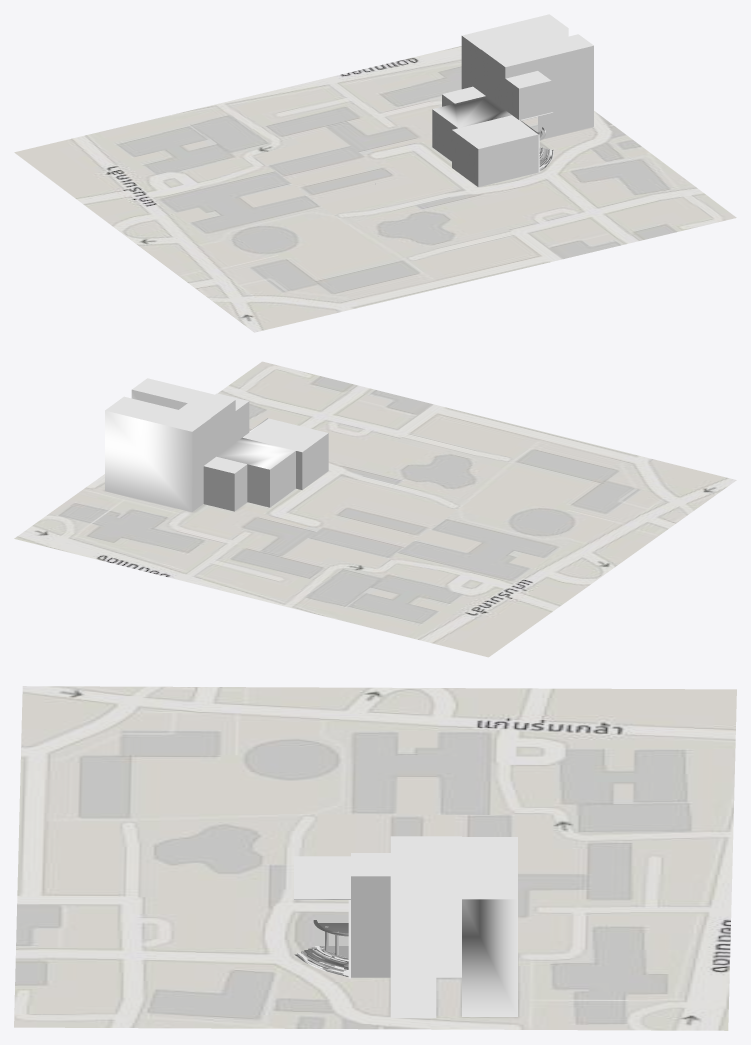
The model's file is webmodel.obj.glb.
3 views of the same model, one above another, from view 1: azimuth 30°, elevation 25°; view 2: azimuth 150°, elevation 25°; view 3: azimuth 270°, elevation 25° (orthographic). The views are drawn at different scales.
Parts seen in each view (by area): view 1: Mesh1 Location_Snapshot Model, Mesh3 Model; view 2: Mesh1 Location_Snapshot Model, Mesh3 Model; view 3: Mesh1 Location_Snapshot Model, Mesh3 Model.
Boxes of the visible parts, left/top/right/bottom form: Mesh1 Location_Snapshot Model: left=14, top=46, right=736, bottom=332; Mesh3 Model: left=432, top=14, right=593, bottom=186; Mesh1 Location_Snapshot Model: left=14, top=361, right=736, bottom=657; Mesh3 Model: left=105, top=378, right=328, bottom=511; Mesh1 Location_Snapshot Model: left=14, top=686, right=736, bottom=1030; Mesh3 Model: left=294, top=836, right=517, bottom=1017.
Size of the model in its own units: 14847 by 2374 by 13160.
3 materials, 1 textured.
